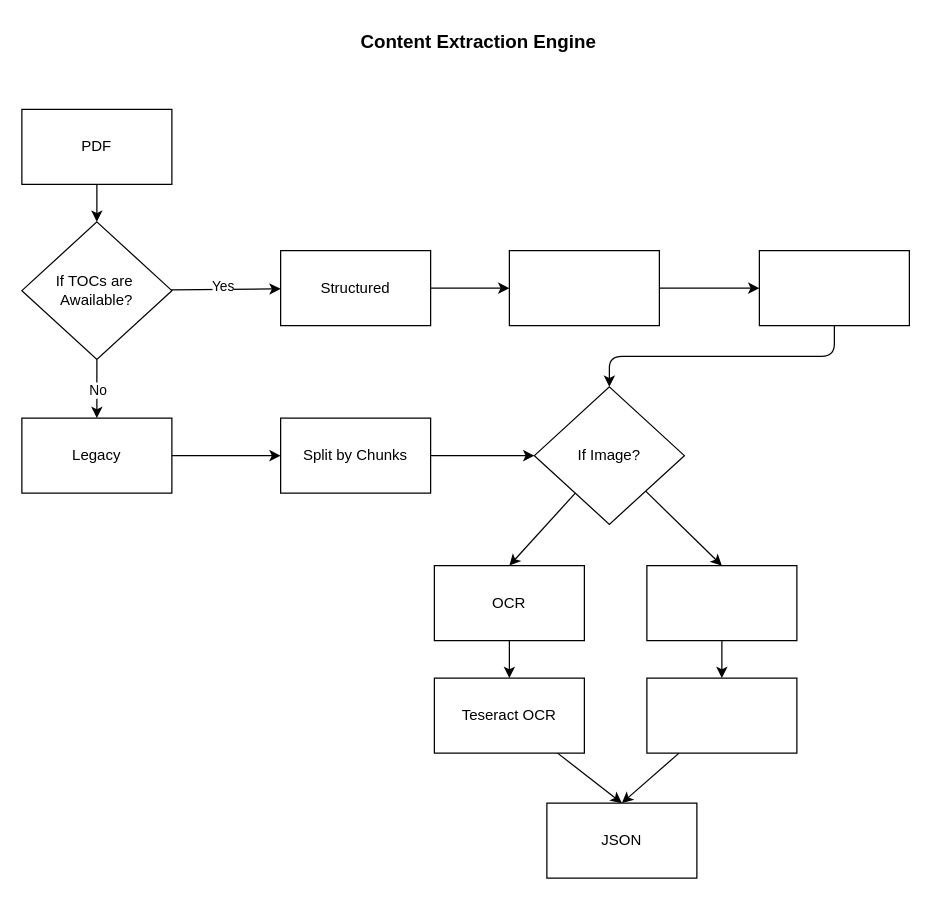
Some shapes in this 931 by 900 pixel diagram are drawn without their labels. The box of each missing label's shape, as (x1, y1, x2, y2) in pixels:
Extract TOC: (508, 249, 659, 326)
Image Recognition: (646, 564, 797, 641)
Sections/Titles/Page No.: (758, 249, 909, 326)
Vision Powered LLMs: (646, 677, 797, 753)
